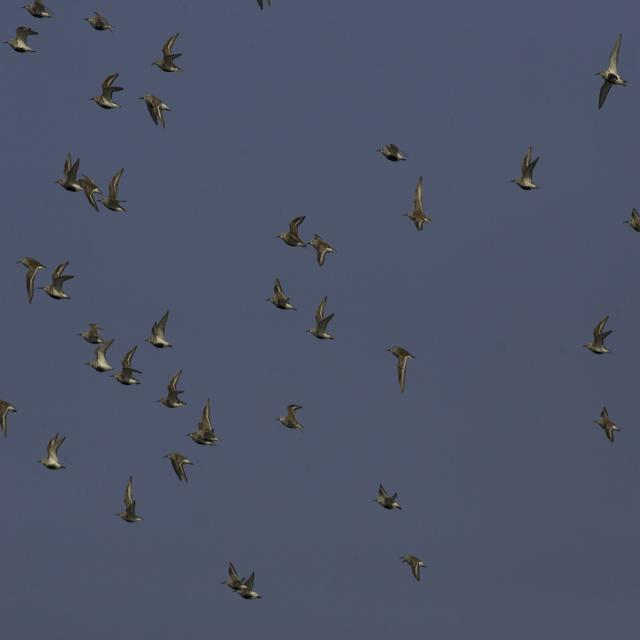bird: (596, 33, 628, 111), (186, 399, 223, 447), (403, 176, 432, 233), (222, 563, 262, 602), (110, 343, 143, 390), (301, 294, 334, 341), (385, 348, 418, 393), (151, 33, 186, 73), (154, 372, 189, 412), (42, 261, 76, 302), (90, 70, 123, 112), (15, 257, 45, 301), (54, 152, 84, 196), (265, 274, 298, 314), (511, 148, 543, 189), (584, 312, 614, 354), (102, 170, 130, 214), (118, 477, 145, 522), (305, 231, 336, 270), (592, 405, 622, 445), (274, 213, 306, 249), (37, 433, 67, 470), (140, 95, 172, 129), (145, 309, 173, 347), (162, 452, 193, 484), (86, 338, 114, 373), (4, 27, 37, 56), (1, 395, 21, 440), (73, 318, 107, 344), (399, 556, 428, 584), (276, 402, 303, 432), (375, 483, 403, 511), (86, 10, 114, 33), (24, 1, 54, 22), (375, 145, 406, 165), (623, 206, 640, 238)
